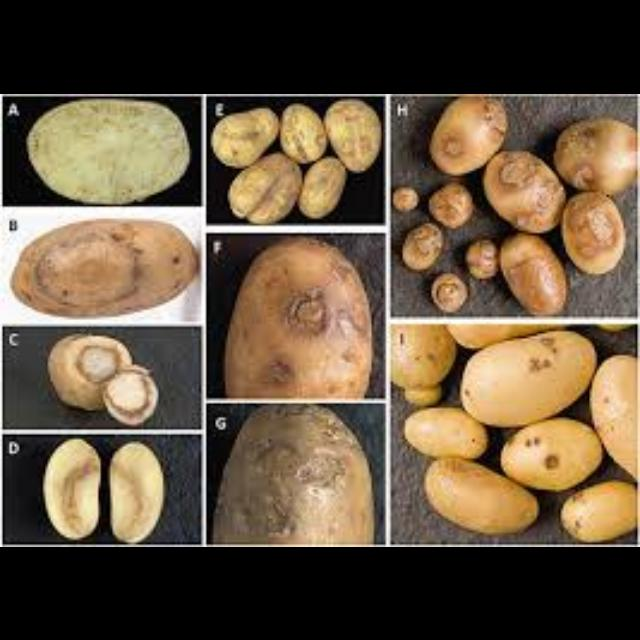Damaged potato: (207, 99, 389, 233), (8, 213, 200, 314), (386, 320, 460, 404), (230, 150, 302, 220)
Defected potato: (25, 95, 197, 203)
Diseased-fungal potato: (230, 234, 376, 400), (224, 406, 374, 546), (12, 439, 194, 545), (484, 144, 564, 230), (47, 328, 131, 409), (429, 96, 509, 174), (556, 118, 638, 194), (560, 189, 628, 275), (502, 232, 570, 310), (97, 361, 165, 425), (332, 100, 386, 164), (217, 107, 276, 163), (307, 156, 347, 220), (424, 182, 476, 228), (282, 106, 326, 158), (426, 268, 469, 312), (404, 223, 444, 269), (468, 237, 498, 277)
Potato: (460, 332, 602, 423), (427, 460, 548, 536), (498, 415, 606, 487), (592, 353, 640, 479), (556, 479, 638, 536), (405, 407, 489, 458), (444, 322, 568, 346)
